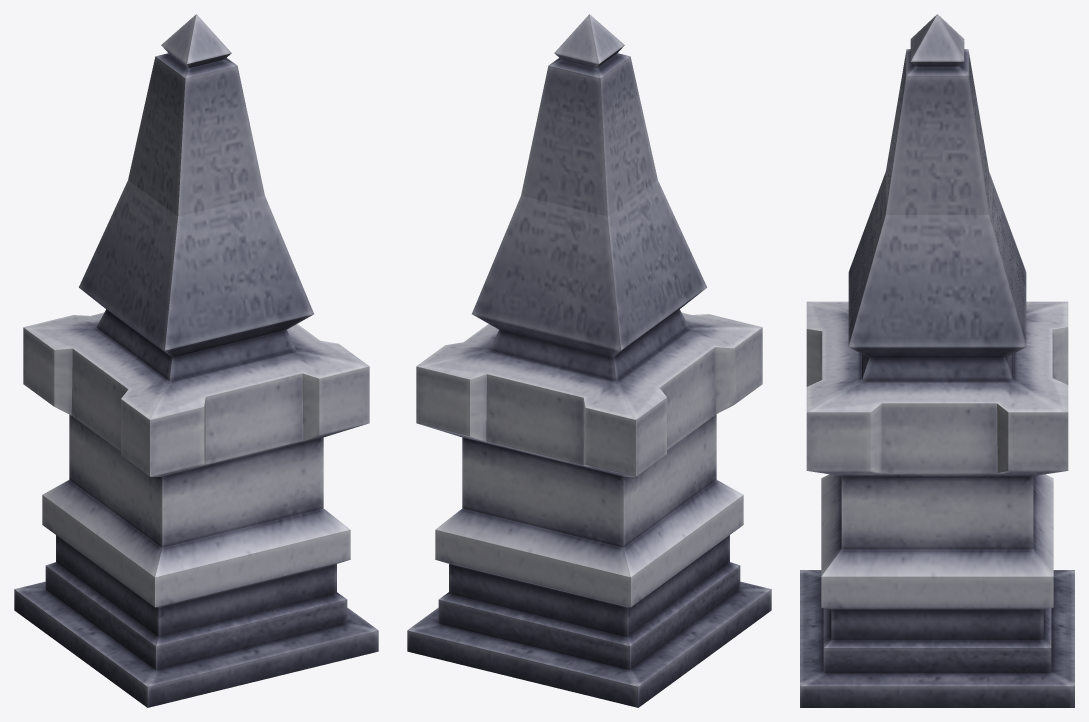
Rendered from a_SWAteam_gray.glb.
3 renders of one model, left to right at view 1: azimuth 30°, elevation 25°; view 2: azimuth 150°, elevation 25°; view 3: azimuth 270°, elevation 25°, orthographic. The views are drawn at different scales.
Parts seen in each view (by area): view 1: a_SWAteam_gray; view 2: a_SWAteam_gray; view 3: a_SWAteam_gray.
Part boxes in pixels (x1,y1,x2,y2): a_SWAteam_gray: [14, 14, 378, 707]; a_SWAteam_gray: [407, 14, 771, 707]; a_SWAteam_gray: [800, 14, 1074, 707].
Size of the model in its own units: 0.6936 by 1.77 by 0.6932.
1 material, 1 textured.
